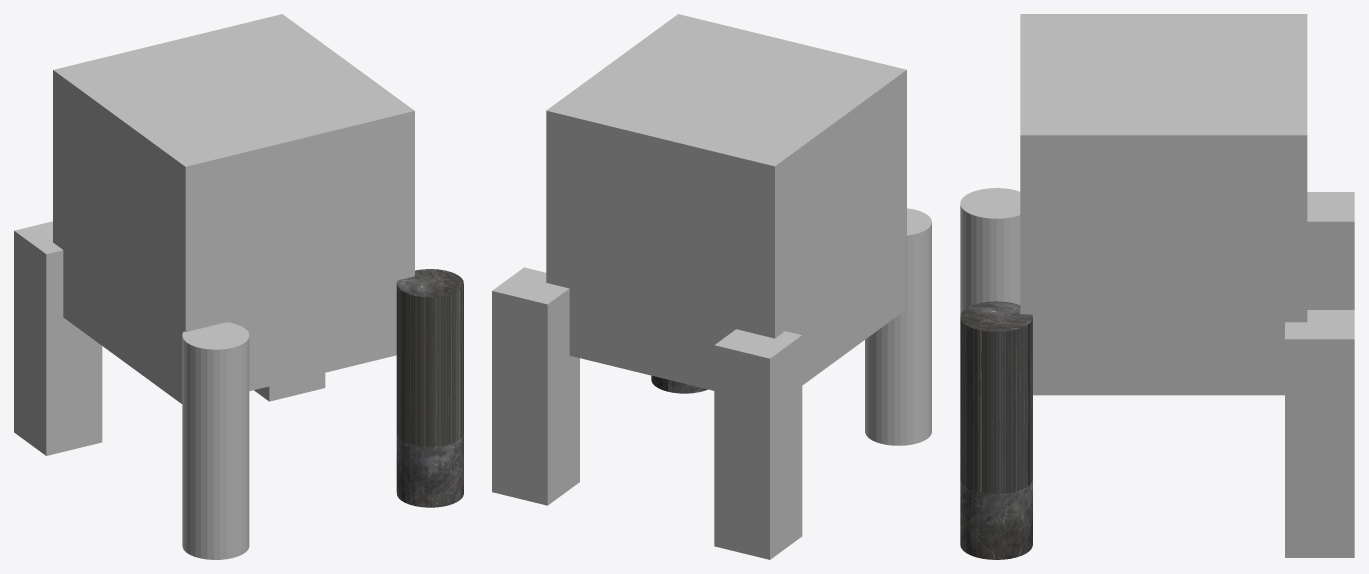
The picture shows the model from 3 angles, left to right: view 1: azimuth 30°, elevation 25°; view 2: azimuth 150°, elevation 25°; view 3: azimuth 270°, elevation 25°; orthographic projection. The views are drawn at different scales.
Visible parts, largest first — view 1: Куб.002, Цилиндр, Цилиндр.001, Куб.001, Куб; view 2: Куб.002, Куб.001, Куб, Цилиндр.001, Цилиндр; view 3: Куб.002, Цилиндр, Куб, Цилиндр.001, Куб.001.
Part boxes in pixels (x1,y1,x2,y2): Куб.002: [53, 14, 414, 403]; Цилиндр: [396, 269, 463, 507]; Цилиндр.001: [182, 322, 249, 559]; Куб.001: [14, 221, 102, 455]; Куб: [254, 373, 325, 401]; Куб.002: [546, 14, 906, 390]; Куб.001: [714, 329, 802, 559]; Куб: [492, 267, 579, 505]; Цилиндр.001: [865, 208, 931, 445]; Цилиндр: [651, 375, 707, 393]; Куб.002: [1020, 14, 1307, 395]; Цилиндр: [960, 301, 1032, 559]; Куб: [1285, 310, 1354, 557]; Цилиндр.001: [960, 188, 1020, 315]; Куб.001: [1307, 192, 1354, 309].
Bounding box in the file's own units: 4.12 × 5.28 × 4.64.
Materials: 2 (1 with a texture image).
